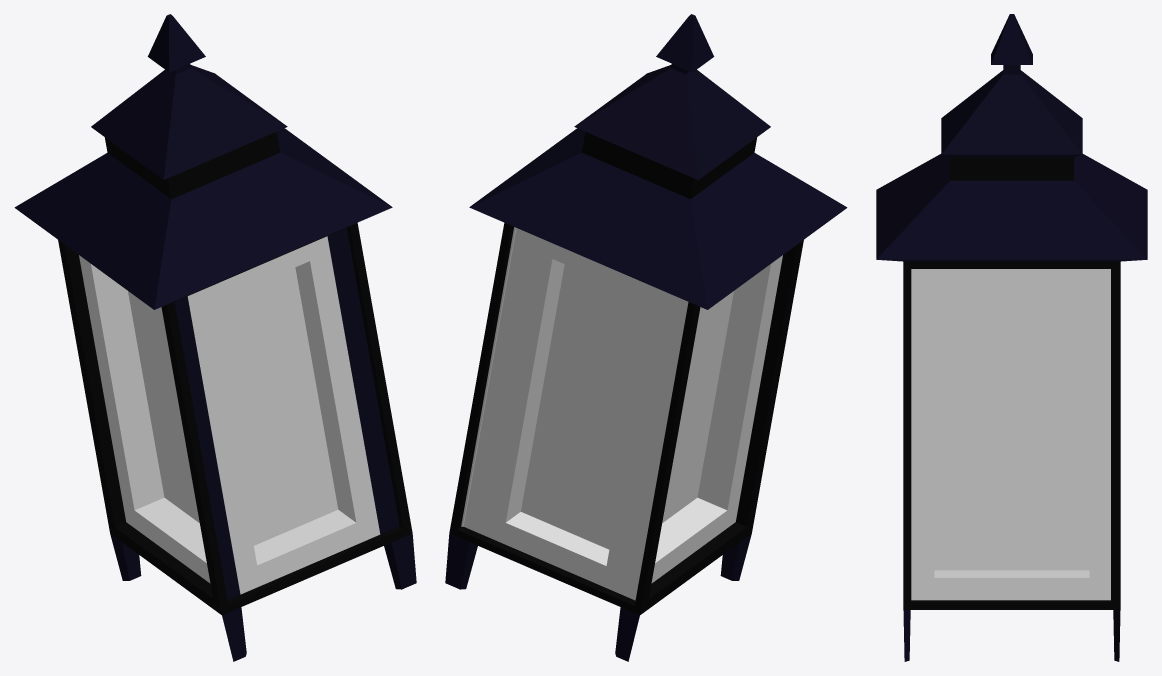
File: Lowpoly lantern For Cartoon.fbx
3 renders of one model, left to right at view 1: azimuth 30°, elevation 25°; view 2: azimuth 150°, elevation 25°; view 3: azimuth 270°, elevation 25°, orthographic. The views are drawn at different scales.
Parts seen in each view (by area): view 1: Lattern; view 2: Lattern; view 3: Lattern.
Part boxes in pixels (left/top/right/bottom): Lattern: left=14, top=14, right=416, bottom=661; Lattern: left=445, top=14, right=847, bottom=661; Lattern: left=876, top=14, right=1147, bottom=661.
Size of the model in its own units: 19.6 by 41.12 by 17.15.
